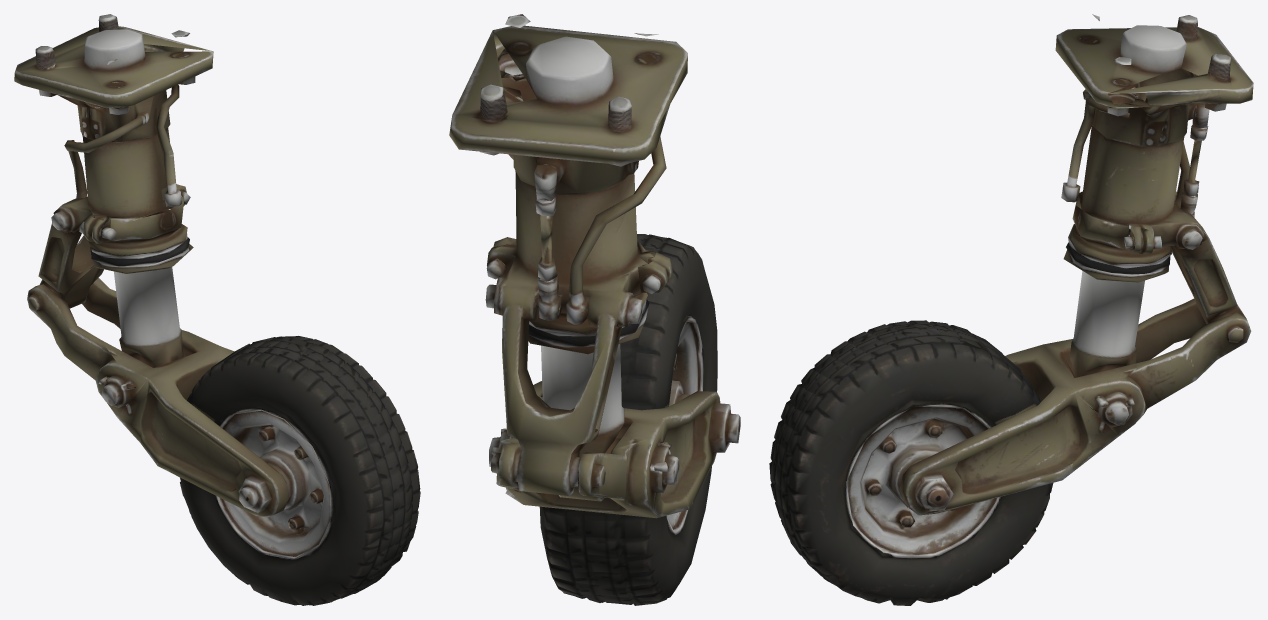
The model's file is tailwheel_remesh.glb.
The picture shows the model from 3 angles, left to right: view 1: azimuth 30°, elevation 25°; view 2: azimuth 150°, elevation 25°; view 3: azimuth 270°, elevation 25°; orthographic projection. The views are drawn at different scales.
Visible parts, largest first — view 1: tripo_node_90c71c8a-5461-49e1-9a31-c0272; view 2: tripo_node_90c71c8a-5461-49e1-9a31-c0272; view 3: tripo_node_90c71c8a-5461-49e1-9a31-c0272.
Part boxes in pixels (<box>): tripo_node_90c71c8a-5461-49e1-9a31-c0272: <box>14,14,420,605</box>; tripo_node_90c71c8a-5461-49e1-9a31-c0272: <box>449,14,740,605</box>; tripo_node_90c71c8a-5461-49e1-9a31-c0272: <box>769,14,1253,605</box>.
Size of the model in its own units: 0.4638 by 1 by 0.8376.
Materials: 1 (1 with a texture image).
